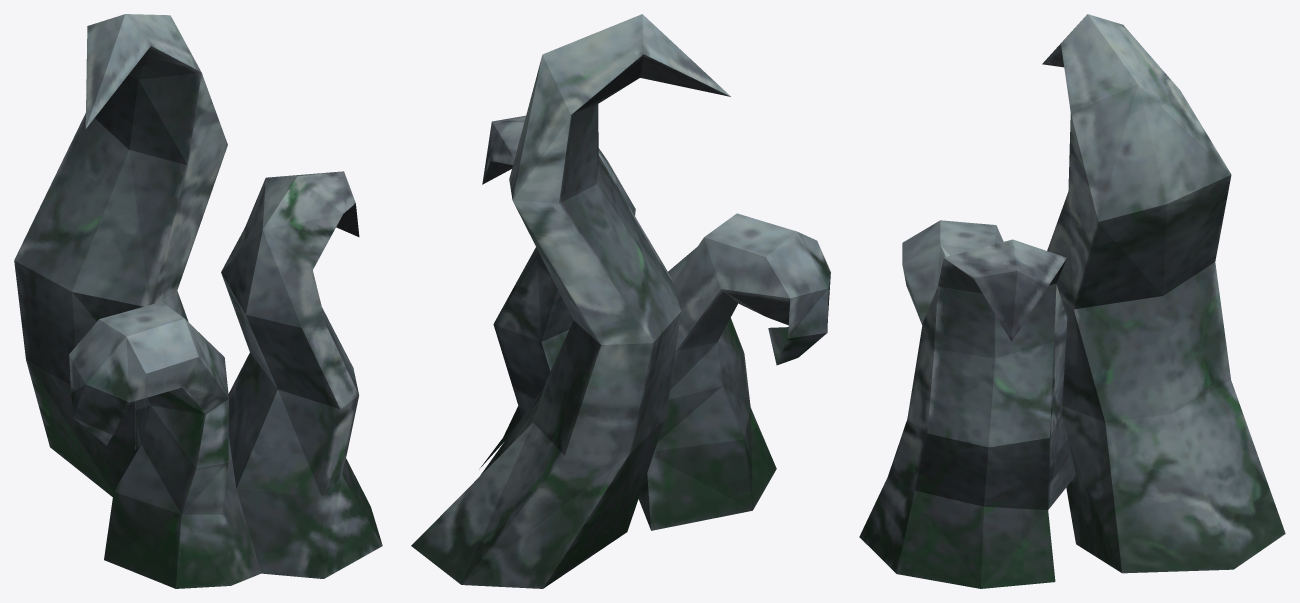
File: stemple_tentacle_04.fbx
The picture shows the model from 3 angles, left to right: view 1: azimuth 30°, elevation 25°; view 2: azimuth 150°, elevation 25°; view 3: azimuth 270°, elevation 25°; orthographic projection. The views are drawn at different scales.
Visible parts, largest first — view 1: obj0.023; view 2: obj0.023; view 3: obj0.023.
Part boxes in pixels (bbox=[...]): obj0.023: bbox=[14, 14, 382, 588]; obj0.023: bbox=[411, 14, 830, 588]; obj0.023: bbox=[859, 14, 1285, 588].
Size of the model in its own units: 2.55 by 3.91 by 3.11.
